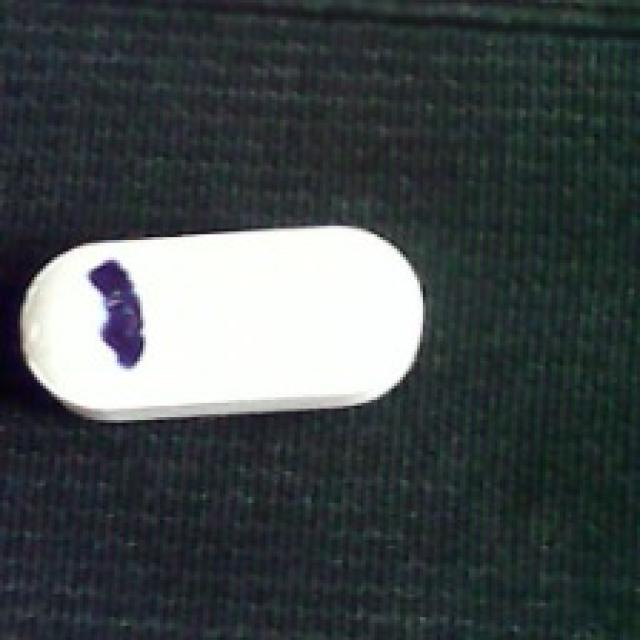defected: (6, 217, 431, 423)
